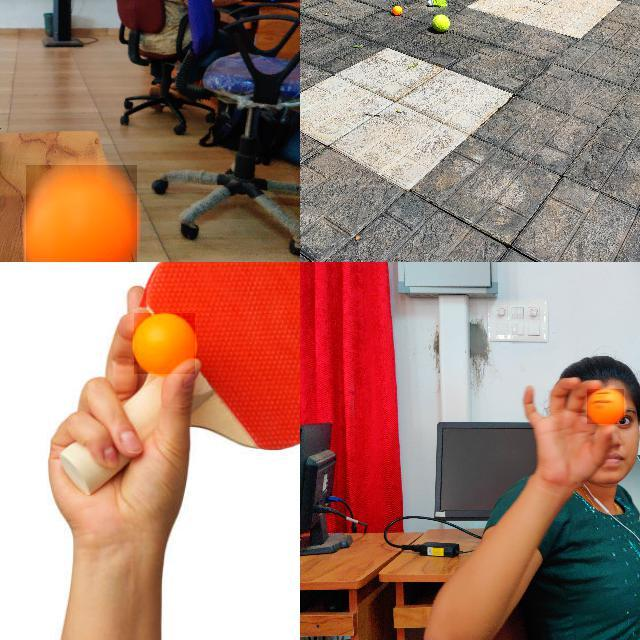ping-pong-ball: (26, 165, 139, 261), (134, 313, 196, 375), (587, 390, 625, 424), (392, 4, 402, 14)
